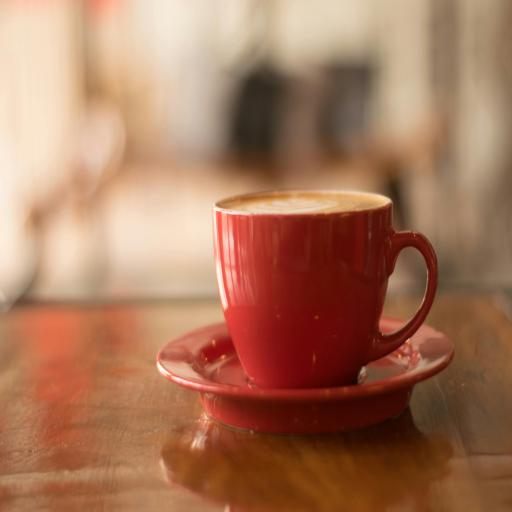cup: (213, 188, 438, 389)
